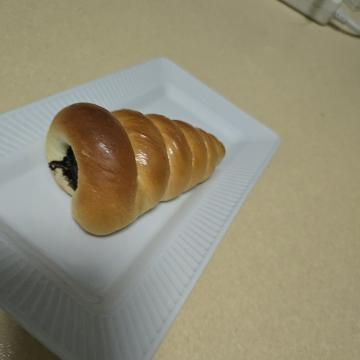cream horn: (81, 126, 245, 328)
